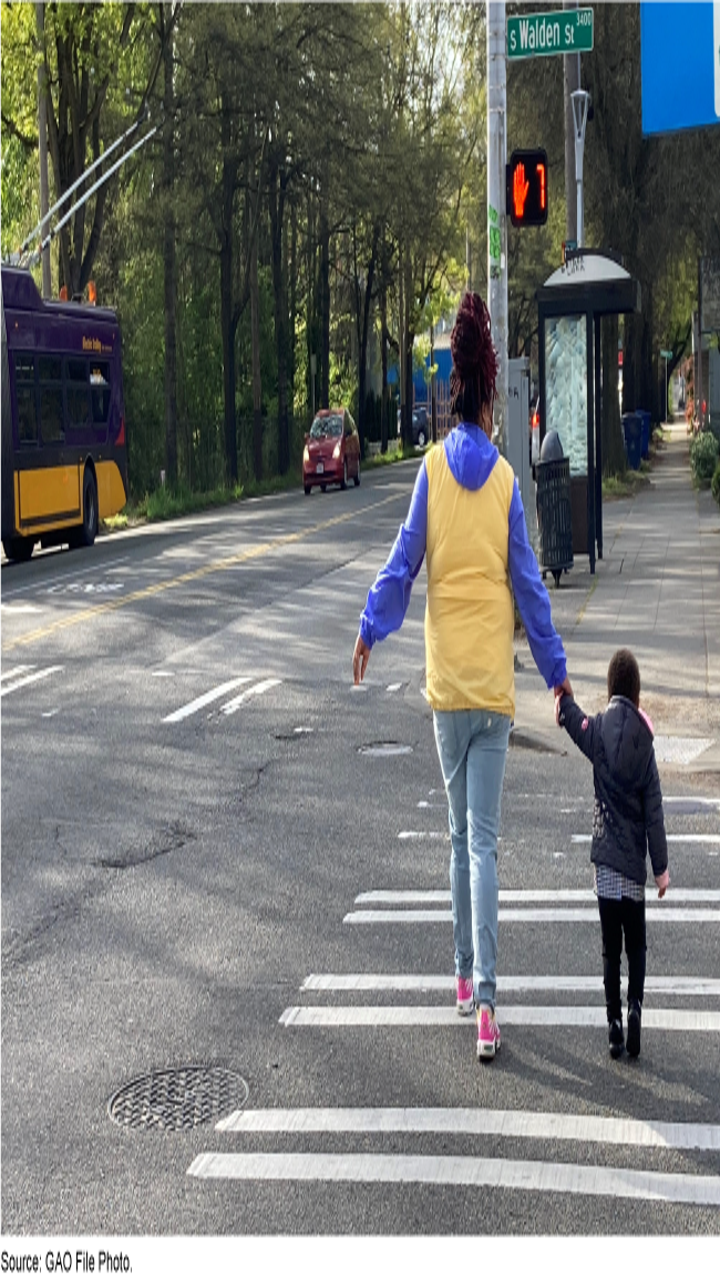Traffic sign: (492, 143, 571, 236)
pedestrian: (358, 286, 535, 1053), (570, 652, 695, 1059)
vehicle: (290, 391, 374, 492)
